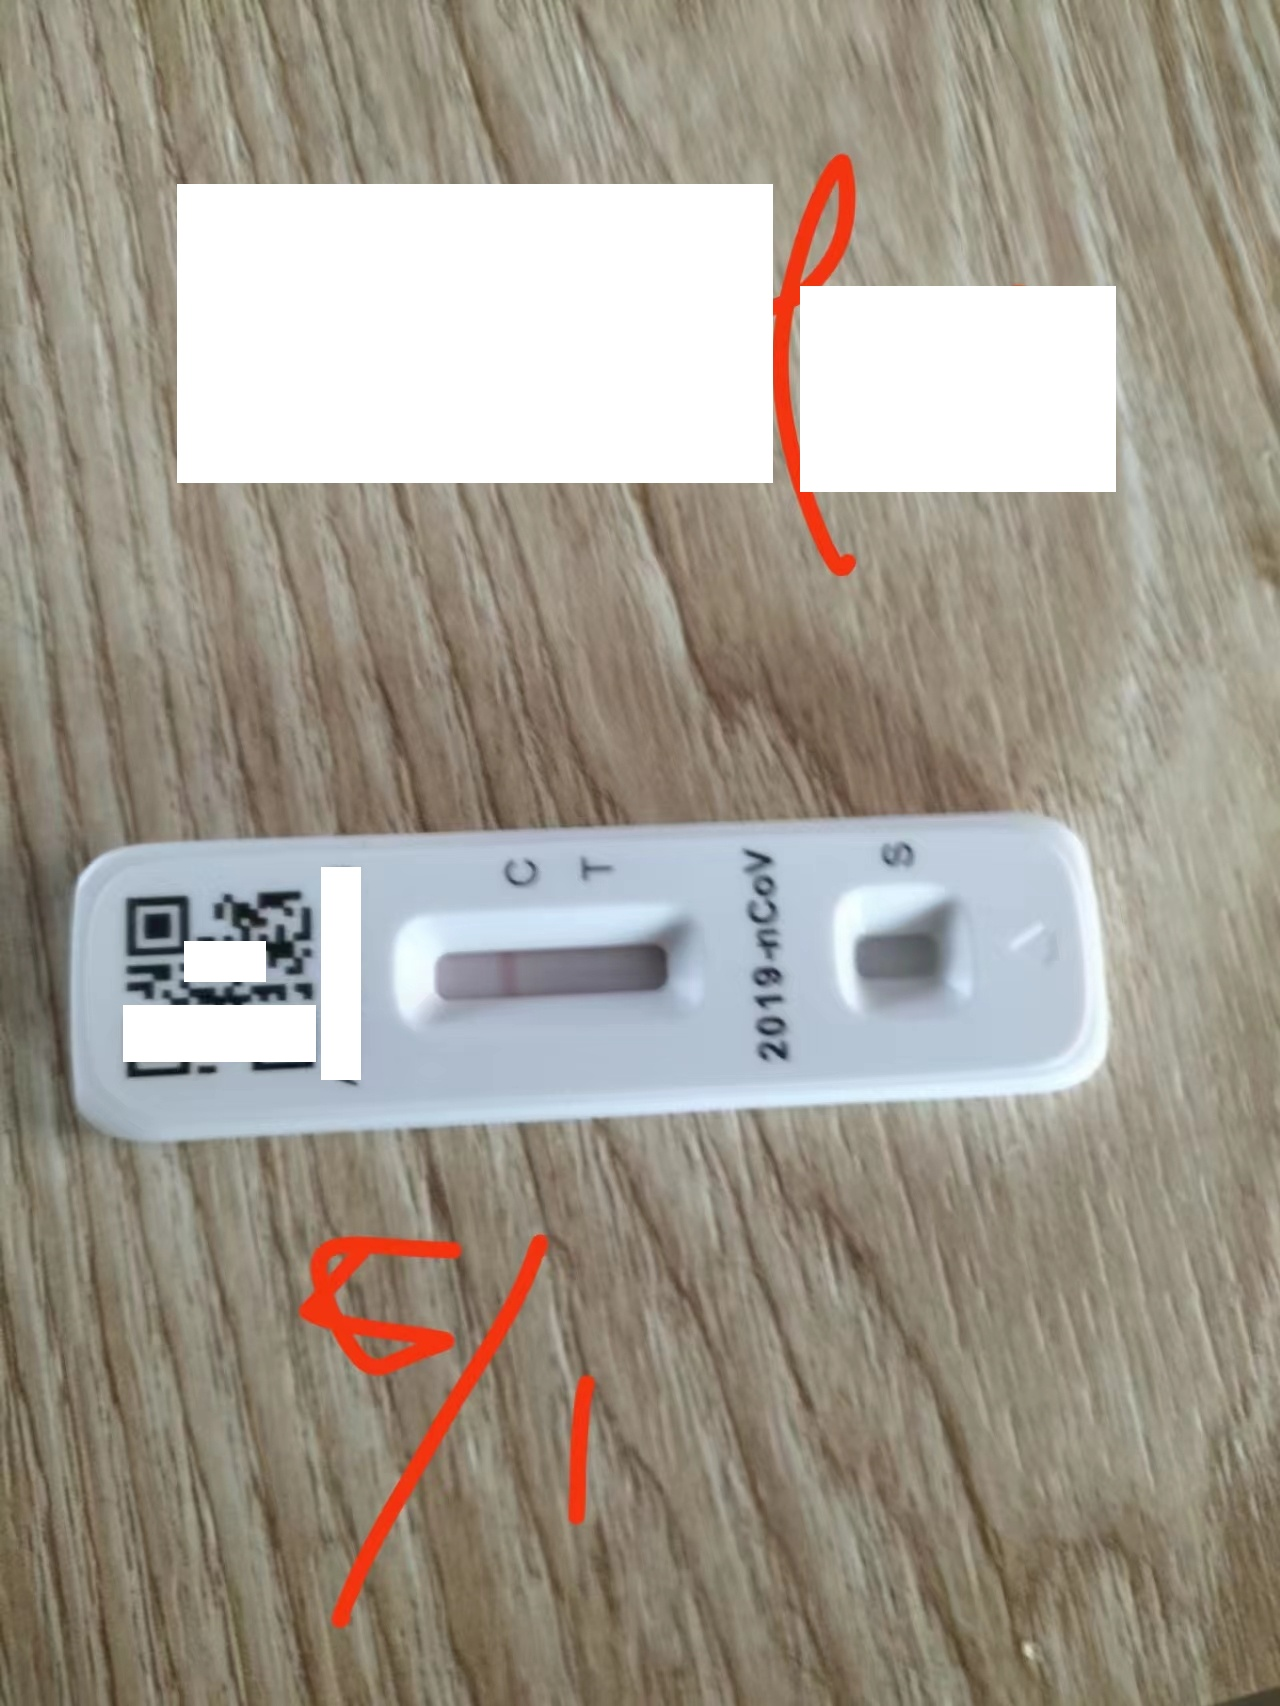negative: (382, 916, 709, 1024)
